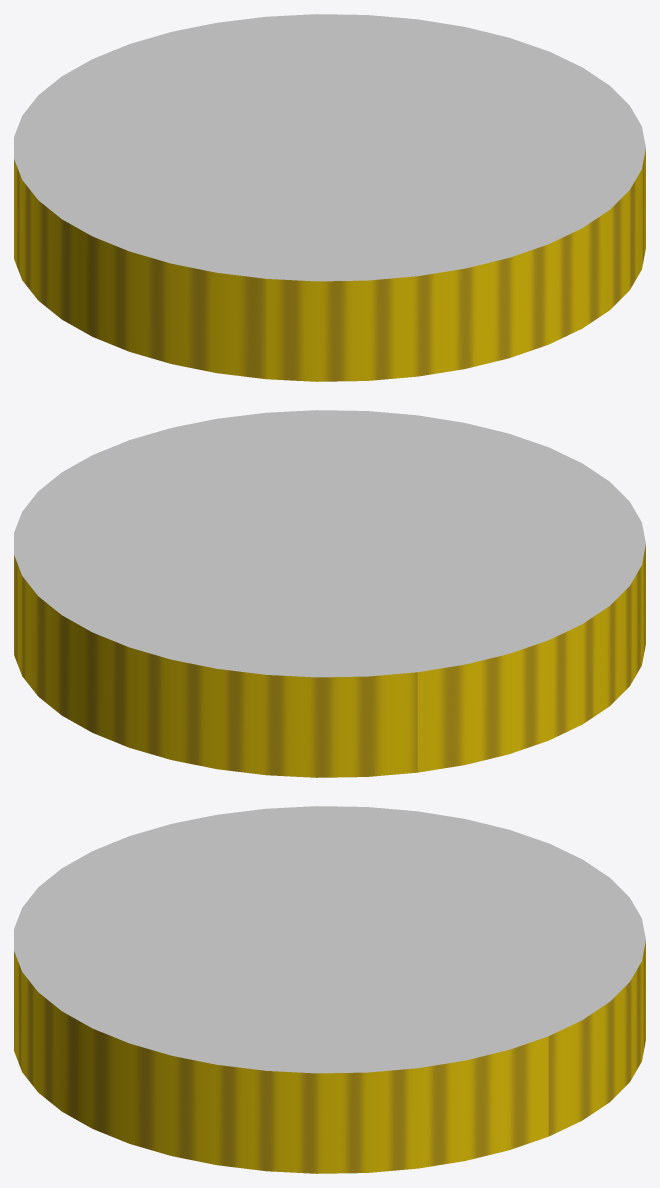
Rendered from NovcicNovi.FBX.
3 views of the same model, one above another, from view 1: azimuth 30°, elevation 25°; view 2: azimuth 150°, elevation 25°; view 3: azimuth 270°, elevation 25° (orthographic).
Parts seen in each view (by area): view 1: Front, Cylinder001; view 2: Front, Cylinder001; view 3: Front, Cylinder001.
Boxes of the visible parts, left/top/right/bottom form: Front: left=14, top=14, right=645, bottom=281; Cylinder001: left=14, top=149, right=645, bottom=381; Front: left=14, top=410, right=645, bottom=677; Cylinder001: left=14, top=545, right=645, bottom=777; Front: left=14, top=806, right=645, bottom=1073; Cylinder001: left=14, top=941, right=645, bottom=1173.
Bounding box in the file's own units: 200 × 35 × 200.
